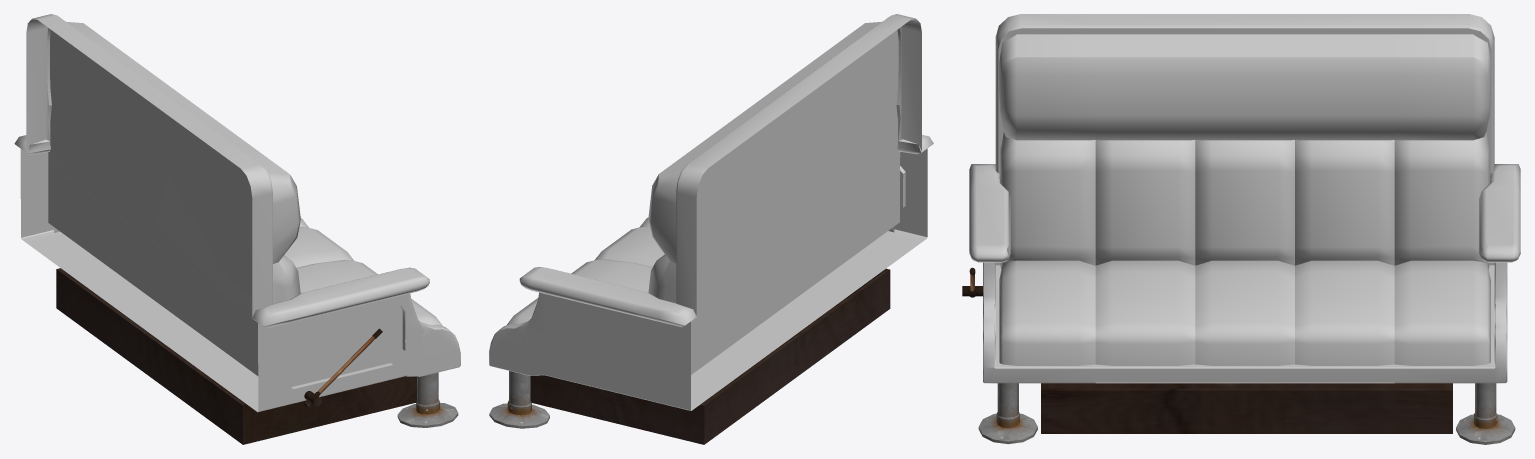
Rendered from lever.fbx.
3 views of the same model, side by side, from view 1: azimuth 30°, elevation 25°; view 2: azimuth 150°, elevation 25°; view 3: azimuth 270°, elevation 25° (orthographic). The views are drawn at different scales.
Visible parts, largest first — view 1: seat, drawer, lever; view 2: seat, drawer; view 3: seat, drawer.
Part boxes in pixels (box(x1,y1,x2,y2)): seat: box(14, 14, 460, 427); drawer: box(56, 268, 416, 444); lever: box(303, 328, 382, 408); seat: box(489, 14, 933, 428); drawer: box(530, 268, 890, 444); seat: box(969, 14, 1520, 444); drawer: box(1041, 383, 1452, 433).
Size of the model in its own units: 92.13 by 121 by 193.
